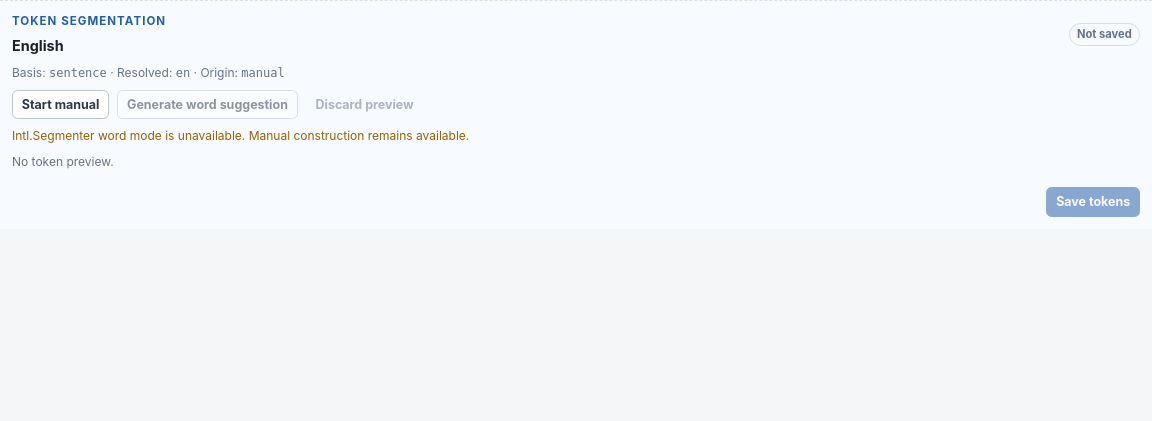
TokenSegmentationPanel › shows unsupported word suggestions while manual construction and discard remain available
This screenshot has width=1152, height=421.
expect the button "Generate word suggestion" is disabled: met, box top-left (117, 90), bottom-right (298, 119)
expect the message reads "Intl.Segmenter word mode is unavailable. Manual construction remains available.": met, box top-left (12, 128), bottom-right (469, 144)
Click the button "Start manual" at (61, 105), box top-left (12, 90), bottom-right (109, 119)
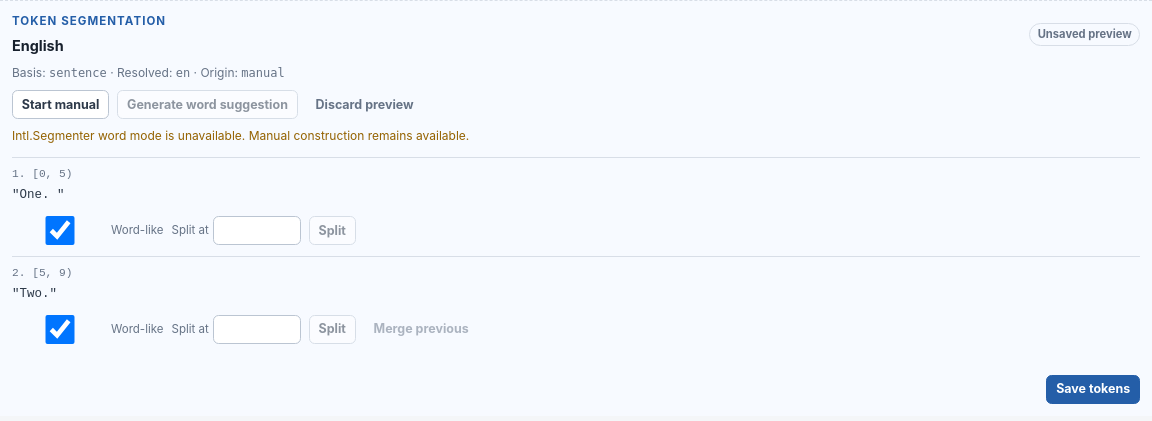
expect the text "Unsaved preview" is shown: met, box top-left (1030, 23), bottom-right (1140, 46)
expect the number of list items is 2: met, box top-left (12, 158), bottom-right (1140, 256); top-left (12, 256), bottom-right (1140, 355)
Click the button "Discard preview" at (365, 105), box top-left (306, 90), bottom-right (424, 119)
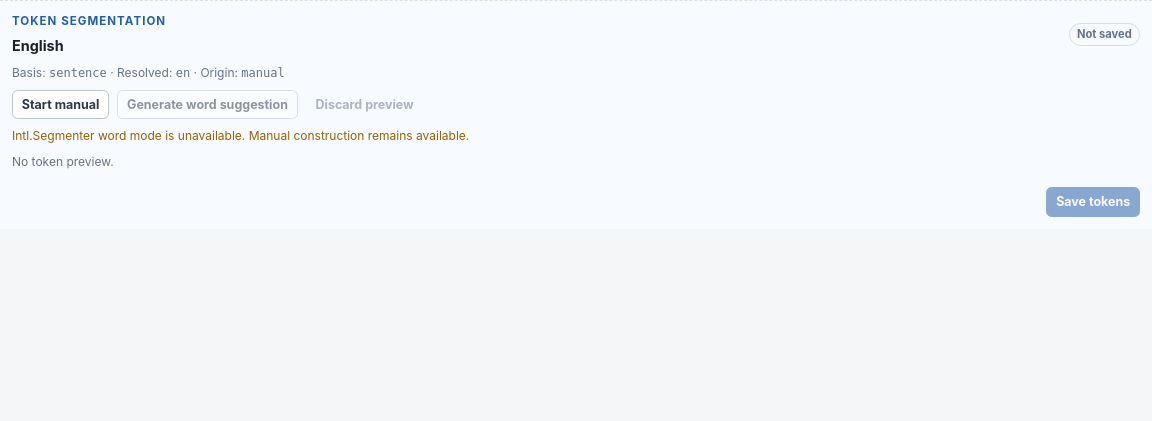
expect the text "Not saved" is shown: met, box top-left (1069, 23), bottom-right (1140, 46)
expect the text "No token preview." is shown: met, box top-left (12, 154), bottom-right (114, 170)
